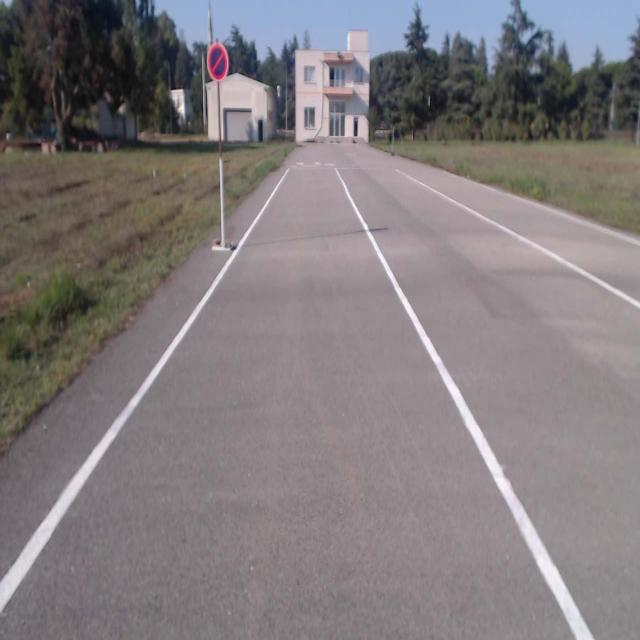parkyasak: (206, 44, 228, 80)
